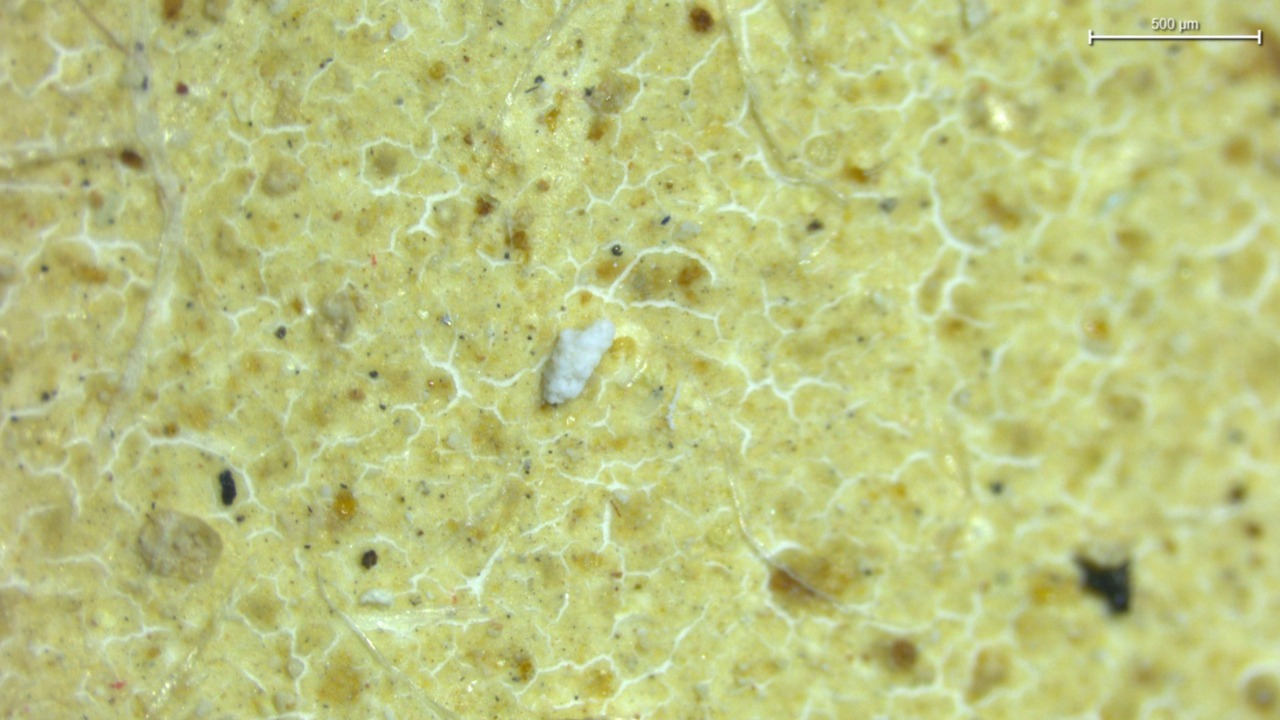microplastic_fragment: (541, 320, 615, 405)
